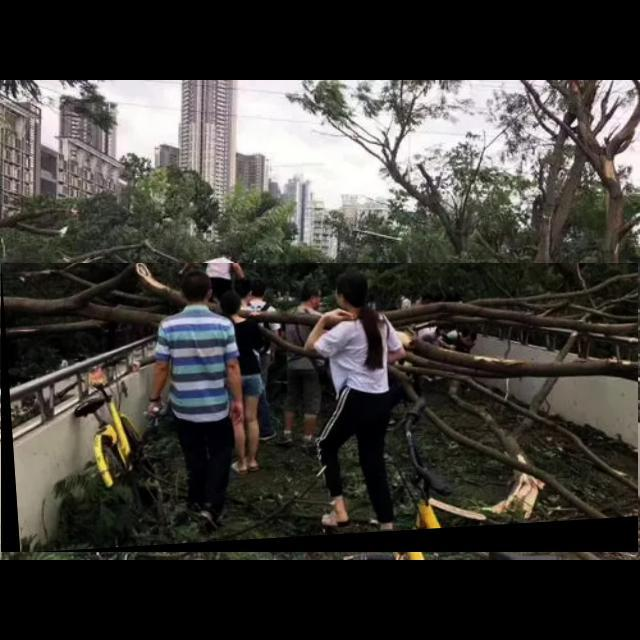fallen_tree: (1, 263, 639, 553)
